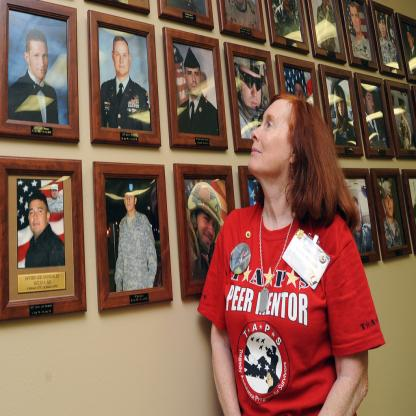Helmet: (186, 182, 222, 258), (236, 61, 267, 117), (280, 0, 291, 14)
